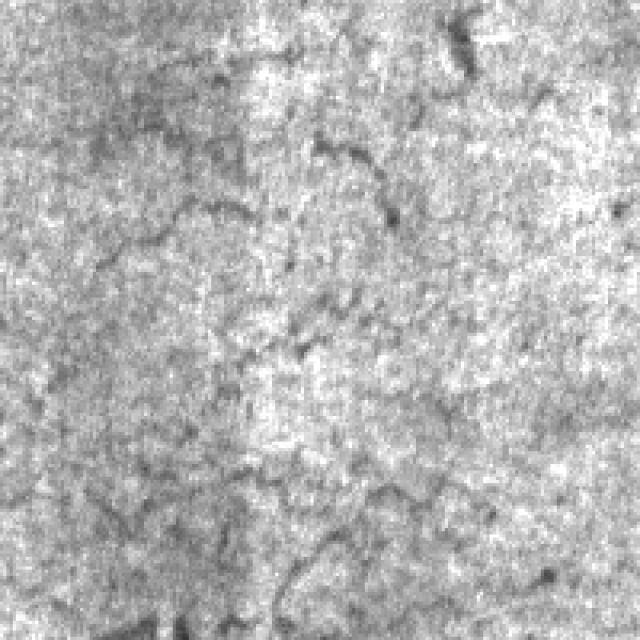crazing: (74, 0, 496, 272), (0, 412, 486, 630), (26, 256, 508, 429)
